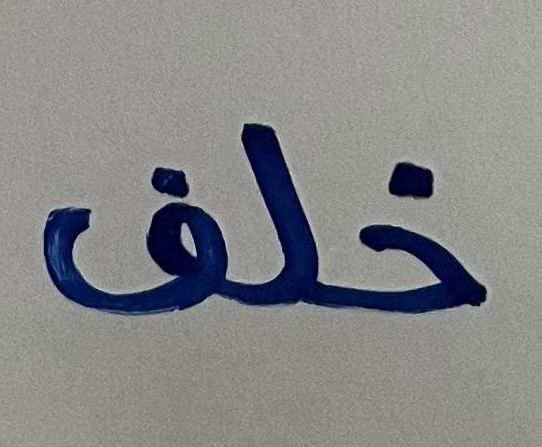feh: (20, 143, 233, 346)
khah: (343, 131, 501, 375)
lam: (238, 85, 332, 329)
